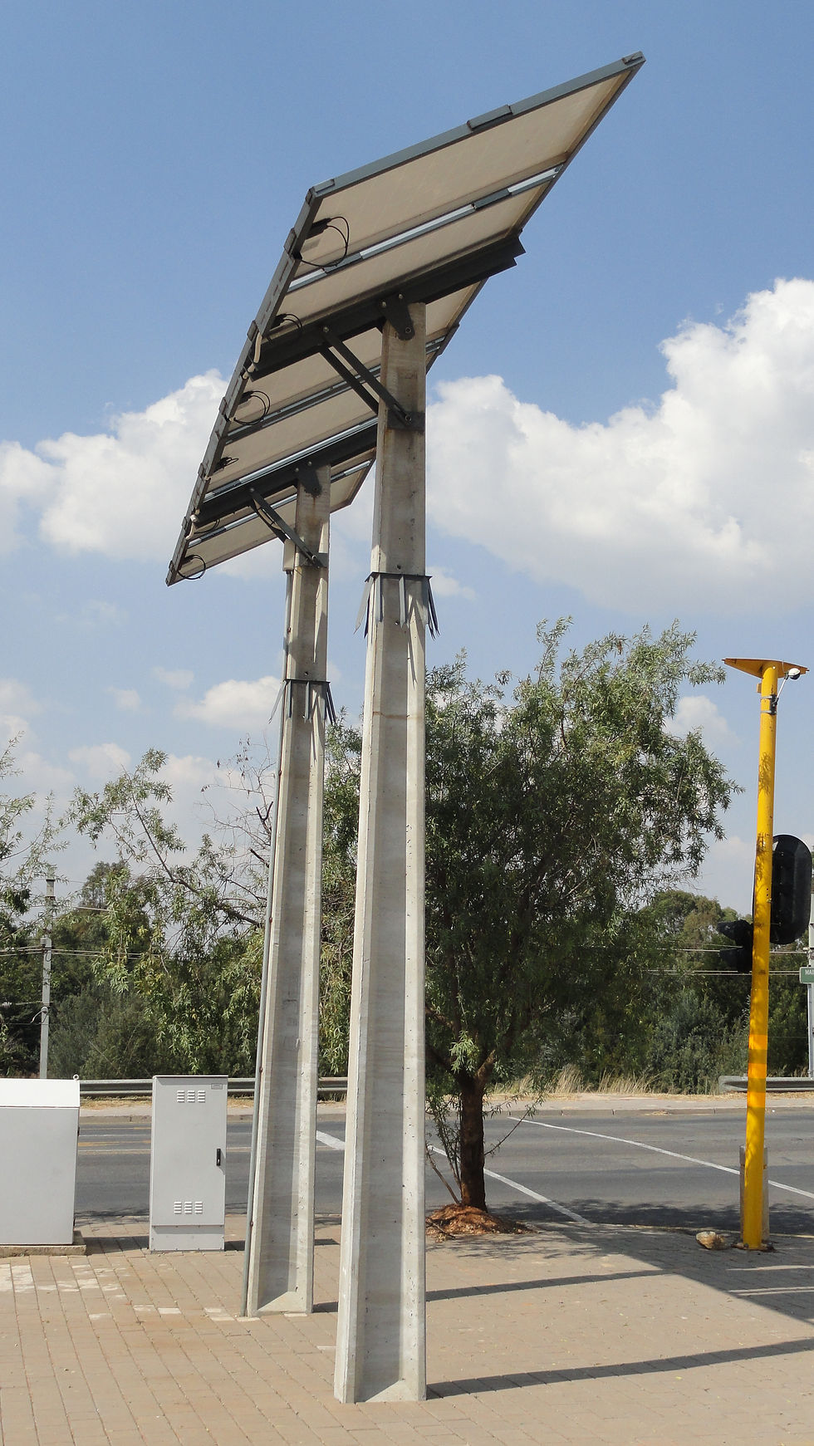light_pole: (332, 301, 436, 1411), (255, 473, 335, 1366), (721, 648, 795, 1265)
